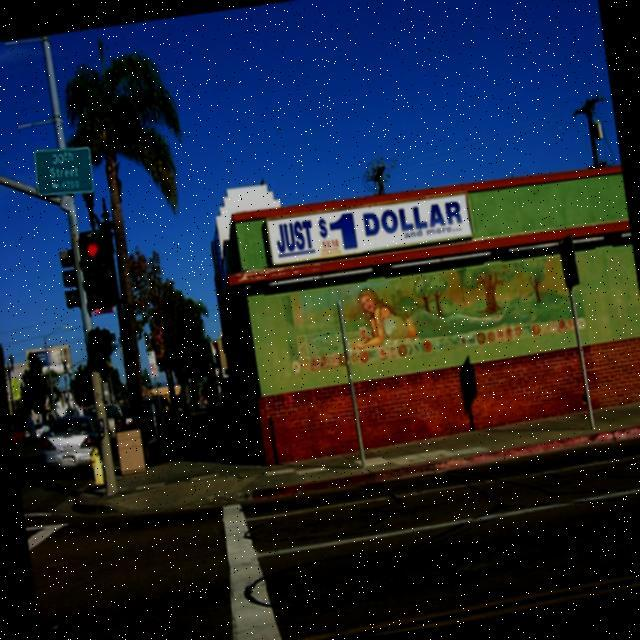fire_hydrant: (88, 448, 108, 494)
